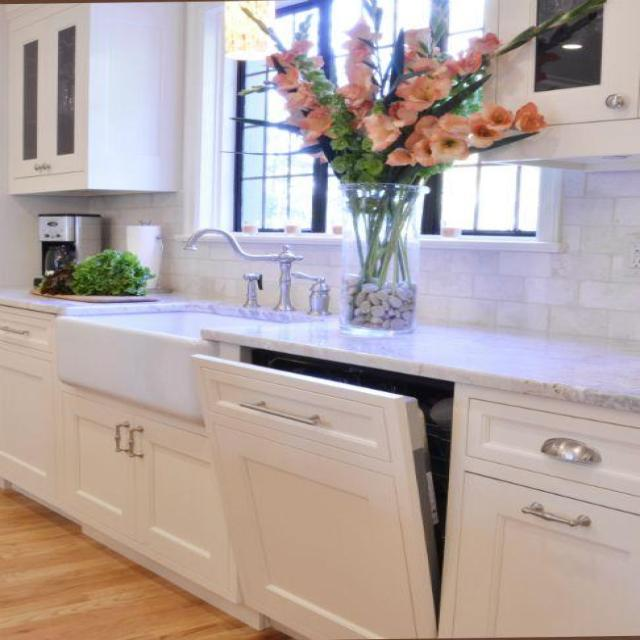dishwasher: (195, 336, 459, 640)
